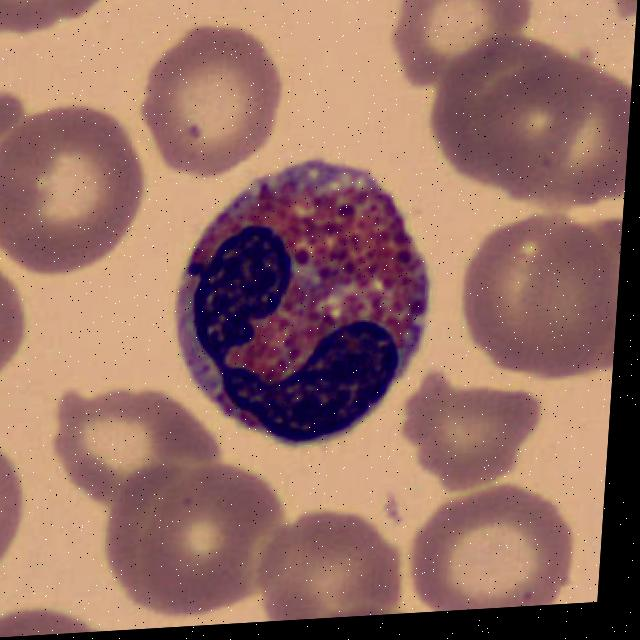eosinophil: (163, 142, 444, 465)
rbc: (457, 207, 618, 386), (434, 26, 593, 193), (0, 98, 148, 275), (481, 55, 634, 224), (133, 13, 286, 181), (86, 453, 238, 620), (138, 459, 298, 609), (408, 485, 587, 613), (50, 374, 225, 501), (393, 360, 555, 495), (521, 210, 623, 398), (250, 506, 411, 623), (379, 0, 542, 84), (0, 245, 44, 390), (0, 597, 118, 639), (0, 413, 24, 596), (0, 0, 110, 38), (558, 0, 640, 24)
